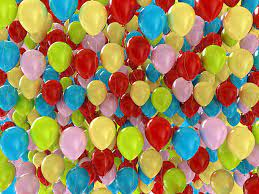Balloon: (222, 7, 253, 40), (18, 1, 47, 36), (1, 126, 29, 162), (80, 1, 108, 36), (138, 5, 166, 39), (59, 126, 87, 160), (31, 117, 59, 150), (227, 126, 255, 159), (146, 117, 174, 149), (172, 127, 200, 159), (167, 2, 194, 35), (89, 116, 115, 150), (117, 127, 143, 160), (201, 117, 226, 150), (47, 41, 73, 72), (20, 49, 45, 80), (228, 48, 254, 77), (75, 48, 98, 80), (41, 153, 65, 183), (201, 46, 226, 73), (66, 166, 90, 194), (101, 42, 123, 72), (151, 45, 175, 72), (91, 148, 115, 175), (109, 1, 135, 25), (163, 168, 187, 194), (115, 167, 138, 194), (178, 53, 200, 81), (128, 36, 150, 64), (50, 1, 78, 22), (194, 1, 223, 21), (1, 41, 19, 72), (210, 170, 234, 193), (15, 172, 40, 194), (42, 79, 62, 106), (193, 81, 214, 106), (86, 80, 107, 104), (152, 87, 171, 113), (19, 77, 41, 99), (217, 81, 237, 105), (173, 77, 193, 101), (131, 80, 150, 105), (64, 85, 84, 108), (189, 149, 208, 173), (1, 1, 17, 29), (1, 85, 17, 113), (240, 83, 259, 105), (73, 109, 84, 124)
